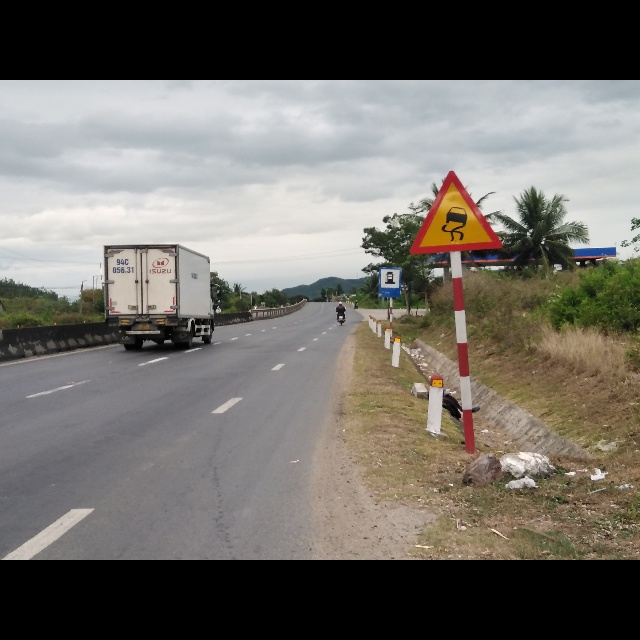Đường trơn trượt: (409, 167, 508, 255)
